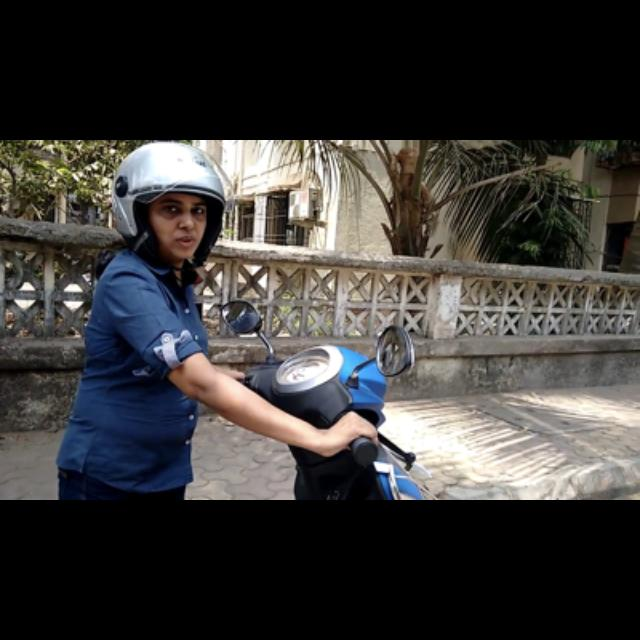With Helmet: (102, 144, 232, 266)
